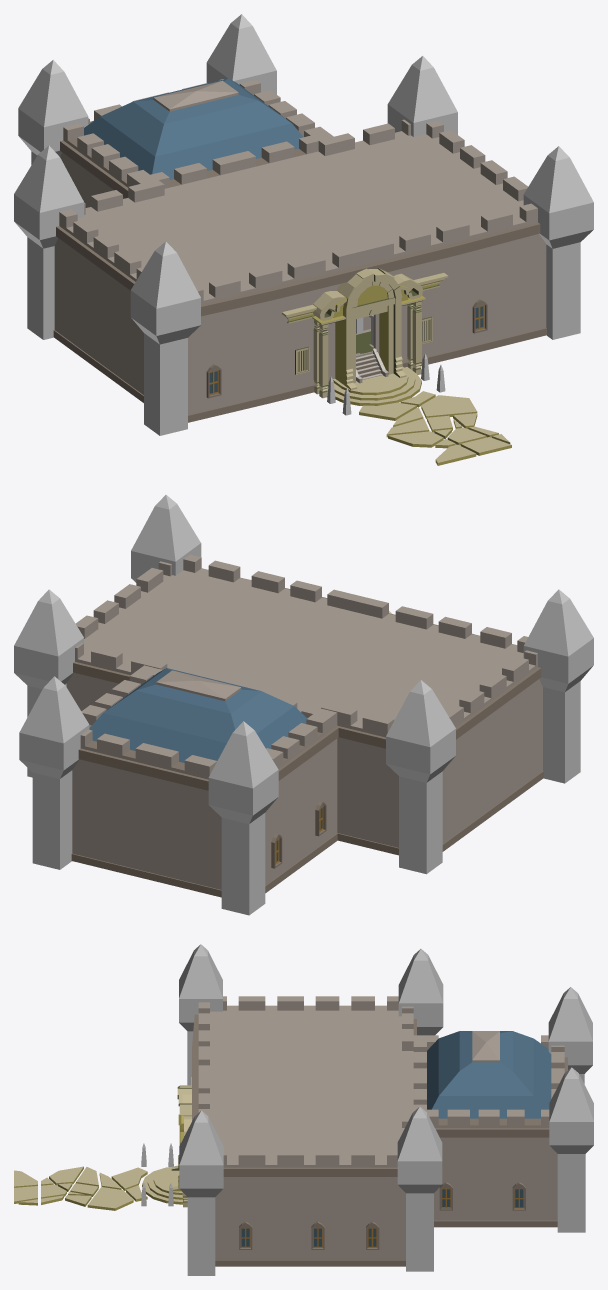
Rendered from tomb3_setup7collide.fbx.
The picture shows the model from 3 angles, top to bottom: view 1: azimuth 30°, elevation 25°; view 2: azimuth 150°, elevation 25°; view 3: azimuth 270°, elevation 25°; orthographic projection. The views are drawn at different scales.
Parts seen in each view (by area): view 1: Tomb_interior_03_floorplan2:Layer4, Tomb_interior_03_floorplan2:Layer2, Tomb_template_01d_collide:exterior_pillar_INV_(3), Tomb_template_01d_collide:exterior_pillar_(3), Tomb_template_01d_collide:exterior_pillar_INV_(2), Tomb_template_01d_collide:exterior_pillar_INV_(1), Tomb_template_01d_collide:exterior_pillar_(1), Tomb_template_01d_collide:exterior_pillar_(2); view 2: Tomb_interior_03_floorplan2:Layer4, Tomb_template_01d_collide:exterior_pillar_INV_(1), Tomb_template_01d_collide:exterior_pillar_INV_(2), Tomb_template_01d_collide:exterior_pillar_(2), Tomb_template_01d_collide:exterior_pillar_INV_(3), Tomb_template_01d_collide:exterior_pillar_(1), Tomb_template_01d_collide:exterior_pillar_(3); view 3: Tomb_interior_03_floorplan2:Layer4, Tomb_interior_03_floorplan2:Layer2, Tomb_template_01d_collide:exterior_pillar_(2), Tomb_template_01d_collide:exterior_pillar_(3), Tomb_template_01d_collide:exterior_pillar_(1), Tomb_template_01d_collide:exterior_pillar_INV_(3), Tomb_template_01d_collide:exterior_pillar_INV_(2), Tomb_template_01d_collide:exterior_pillar_INV_(1).
Part boxes in pixels (<box>): Tomb_interior_03_floorplan2:Layer4: <box>53,78,546,422</box>; Tomb_interior_03_floorplan2:Layer2: <box>282,268,511,465</box>; Tomb_template_01d_collide:exterior_pillar_INV_(3): <box>130,241,200,435</box>; Tomb_template_01d_collide:exterior_pillar_(3): <box>523,146,593,339</box>; Tomb_template_01d_collide:exterior_pillar_INV_(2): <box>14,145,84,339</box>; Tomb_template_01d_collide:exterior_pillar_INV_(1): <box>18,60,88,164</box>; Tomb_template_01d_collide:exterior_pillar_(1): <box>387,56,457,136</box>; Tomb_template_01d_collide:exterior_pillar_(2): <box>206,14,276,94</box>; Tomb_interior_03_floorplan2:Layer4: <box>66,554,543,897</box>; Tomb_template_01d_collide:exterior_pillar_INV_(1): <box>208,721,278,915</box>; Tomb_template_01d_collide:exterior_pillar_INV_(2): <box>386,680,455,874</box>; Tomb_template_01d_collide:exterior_pillar_(2): <box>19,676,89,869</box>; Tomb_template_01d_collide:exterior_pillar_INV_(3): <box>523,589,593,783</box>; Tomb_template_01d_collide:exterior_pillar_(1): <box>14,589,83,777</box>; Tomb_template_01d_collide:exterior_pillar_(3): <box>131,495,201,582</box>; Tomb_interior_03_floorplan2:Layer4: <box>192,996,567,1266</box>; Tomb_interior_03_floorplan2:Layer2: <box>14,1077,191,1210</box>; Tomb_template_01d_collide:exterior_pillar_(2): <box>549,1067,593,1232</box>; Tomb_template_01d_collide:exterior_pillar_(3): <box>179,1110,223,1275</box>; Tomb_template_01d_collide:exterior_pillar_(1): <box>397,1107,442,1271</box>; Tomb_template_01d_collide:exterior_pillar_INV_(3): <box>179,944,222,1085</box>; Tomb_template_01d_collide:exterior_pillar_INV_(2): <box>398,949,443,1035</box>; Tomb_template_01d_collide:exterior_pillar_INV_(1): <box>548,987,592,1083</box>.
Size of the model in its own units: 29448 by 11931 by 39135.
